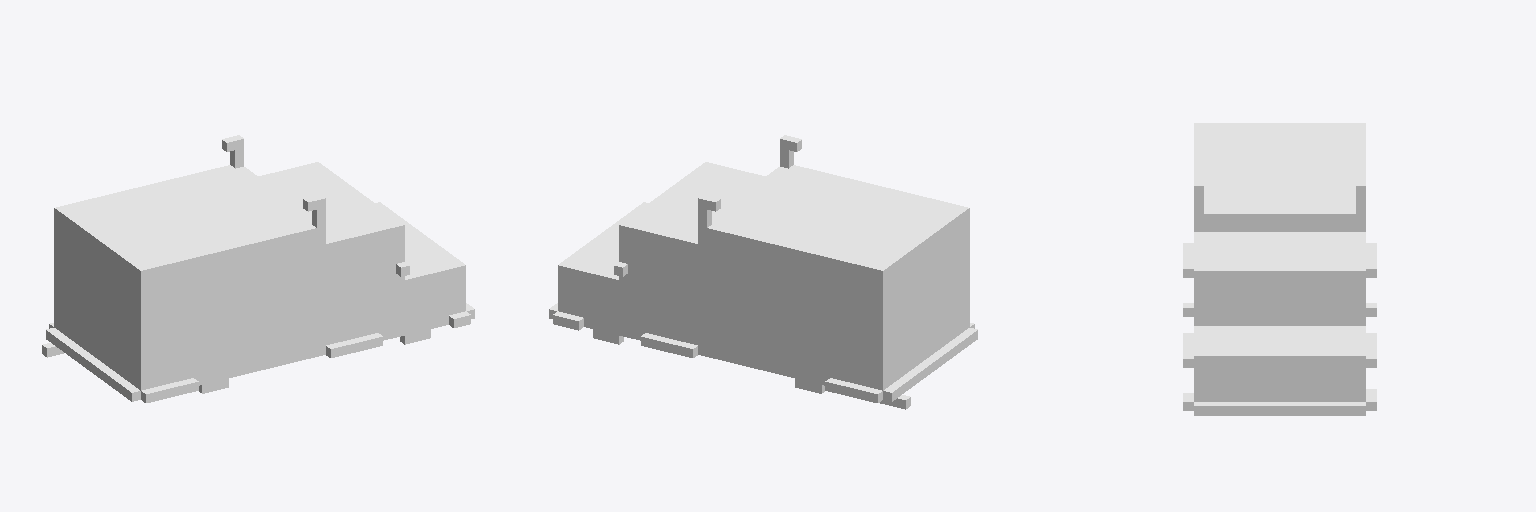
Rendered from RedTruck.obj.
3 views of the same model, side by side, from view 1: azimuth 30°, elevation 25°; view 2: azimuth 150°, elevation 25°; view 3: azimuth 270°, elevation 25° (orthographic).
Bounding box in the file's own units: 40 × 18 × 19.